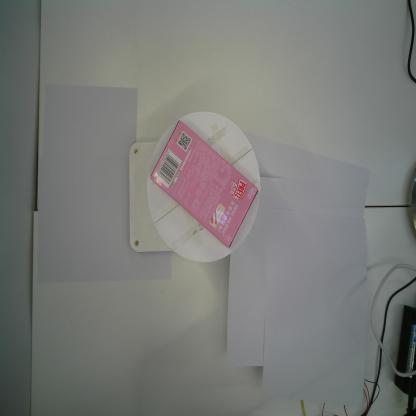Dessert: (150, 119, 258, 248)
